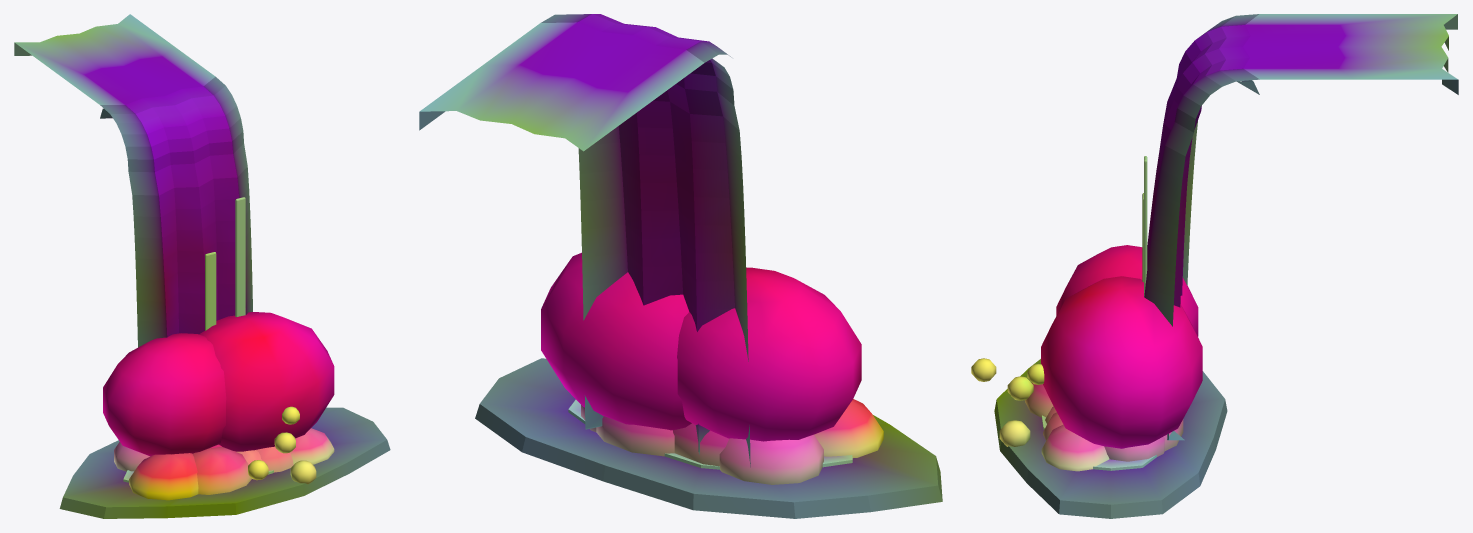
File: Waterfall_Small.glb
3 renders of one model, left to right at view 1: azimuth 30°, elevation 25°; view 2: azimuth 150°, elevation 25°; view 3: azimuth 270°, elevation 25°, orthographic. The views are drawn at different scales.
Visible parts, largest first — view 1: Waterfall_Small; view 2: Waterfall_Small; view 3: Waterfall_Small.
Boxes of the visible parts, x1=… form: Waterfall_Small: x1=14, y1=14, x2=390, y2=518; Waterfall_Small: x1=419, y1=14, x2=942, y2=518; Waterfall_Small: x1=971, y1=14, x2=1458, y2=518.
Bounding box in the file's own units: 2.46 × 2.46 × 2.82.
